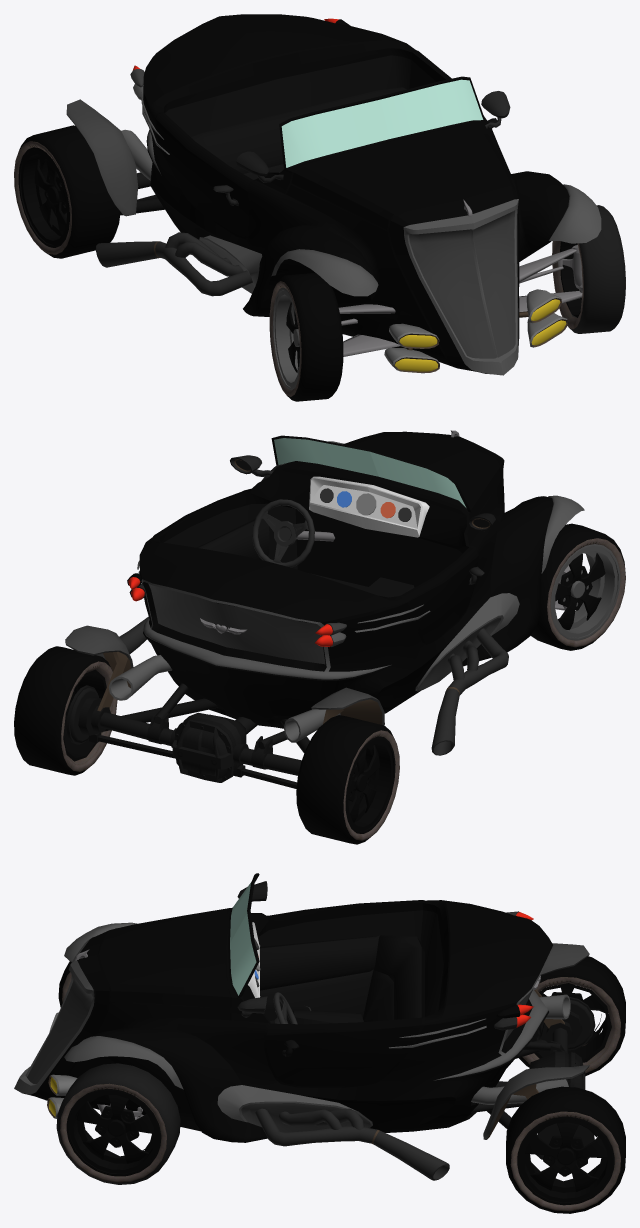
Rendered from shwcar4.gltf.
3 views of the same model, one above another, from view 1: azimuth 30°, elevation 25°; view 2: azimuth 150°, elevation 25°; view 3: azimuth 270°, elevation 25° (orthographic). The views are drawn at different scales.
Visible parts, largest first — view 1: node_id877, node_id885, node_id881, node_id873, node_id868, node_id816, node_id883, node_id807, node_id834, node_id767, node_id896, node_id865 (+14 smaller); view 2: node_id877, node_id885, node_id875, node_id883, node_id844, node_id873, node_id825, node_id816, node_id842, node_id868, node_id879, node_id767 (+15 smaller); view 3: node_id877, node_id885, node_id873, node_id883, node_id767, node_id825, node_id834, node_id829, node_id838, node_id827, node_id844, node_id836 (+16 smaller).
Boxes of the visible parts, x1=… form: node_id877: x1=143, y1=14, x2=569, y2=372; node_id885: x1=165, y1=55, x2=435, y2=179; node_id881: x1=408, y1=210, x2=515, y2=358; node_id873: x1=141, y1=92, x2=601, y2=375; node_id868: x1=281, y1=79, x2=483, y2=167; node_id816: x1=19, y1=125, x2=120, y2=258; node_id883: x1=155, y1=48, x2=519, y2=373; node_id807: x1=277, y1=273, x2=343, y2=401; node_id834: x1=567, y1=205, x2=625, y2=333; node_id767: x1=95, y1=232, x2=252, y2=296; node_id896: x1=66, y1=99, x2=138, y2=216; node_id865: x1=338, y1=245, x2=582, y2=356; node_id877: x1=139, y1=432, x2=553, y2=728; node_id885: x1=164, y1=503, x2=462, y2=597; node_id875: x1=148, y1=583, x2=501, y2=689; node_id883: x1=142, y1=431, x2=504, y2=724; node_id844: x1=66, y1=683, x2=301, y2=782; node_id873: x1=137, y1=441, x2=584, y2=691; node_id825: x1=14, y1=646, x2=112, y2=775; node_id816: x1=296, y1=715, x2=396, y2=844; node_id842: x1=78, y1=697, x2=309, y2=788; node_id868: x1=274, y1=438, x2=466, y2=507; node_id879: x1=309, y1=476, x2=429, y2=537; node_id767: x1=96, y1=616, x2=508, y2=755; node_id877: x1=24, y1=900, x2=552, y2=1142; node_id885: x1=258, y1=910, x2=443, y2=1024; node_id873: x1=14, y1=922, x2=553, y2=1127; node_id883: x1=23, y1=900, x2=532, y2=1116; node_id767: x1=255, y1=1006, x2=449, y2=1180; node_id825: x1=506, y1=1086, x2=625, y2=1213; node_id834: x1=56, y1=1063, x2=180, y2=1184; node_id829: x1=517, y1=1116, x2=614, y2=1205; node_id838: x1=66, y1=1089, x2=161, y2=1176; node_id827: x1=525, y1=1122, x2=607, y2=1191; node_id844: x1=471, y1=996, x2=595, y2=1159; node_id836: x1=76, y1=1095, x2=154, y2=1163.
Size of the model in its own units: 70.42 by 43.61 by 106.
50 materials, 14 textured.
